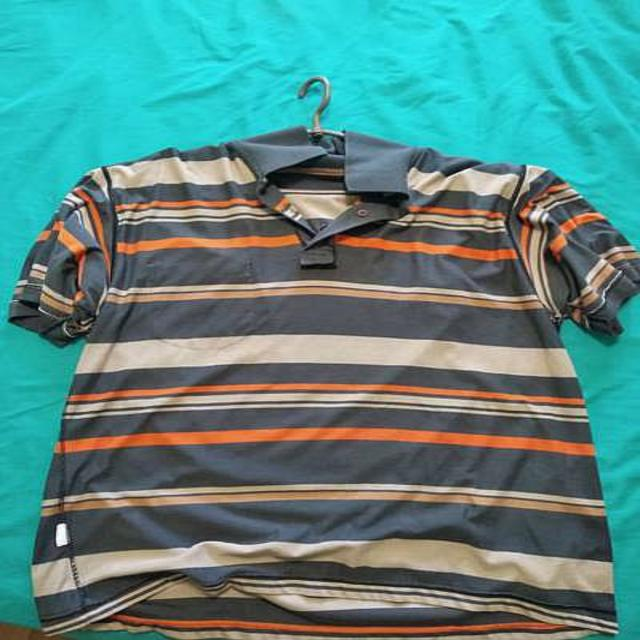T_SHIRT: (7, 114, 640, 640)
